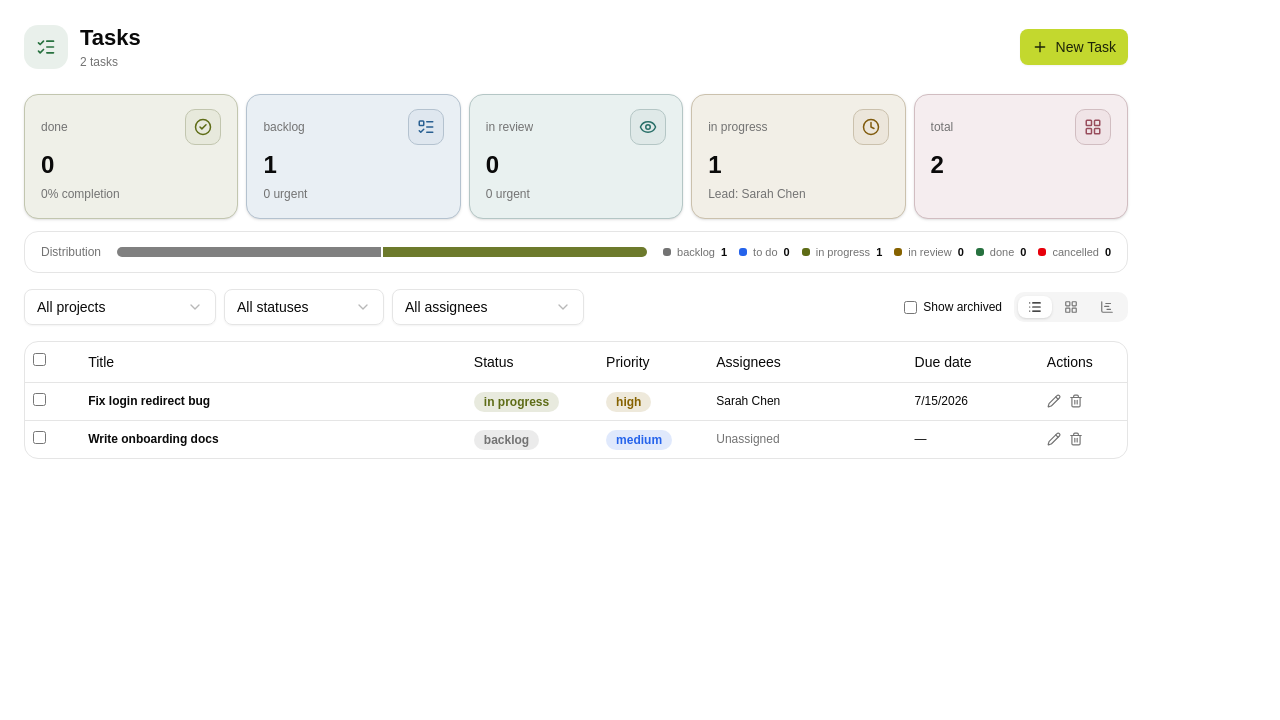
Test case: Tasks — list/board view toggle › switches back to list view
The image size is (1280, 720).
Check: the text "Fix login redirect bug" is shown, box [88,393,210,409]
Click the button named "board view".
click(1071, 307)  # box [1054,296,1088,318]
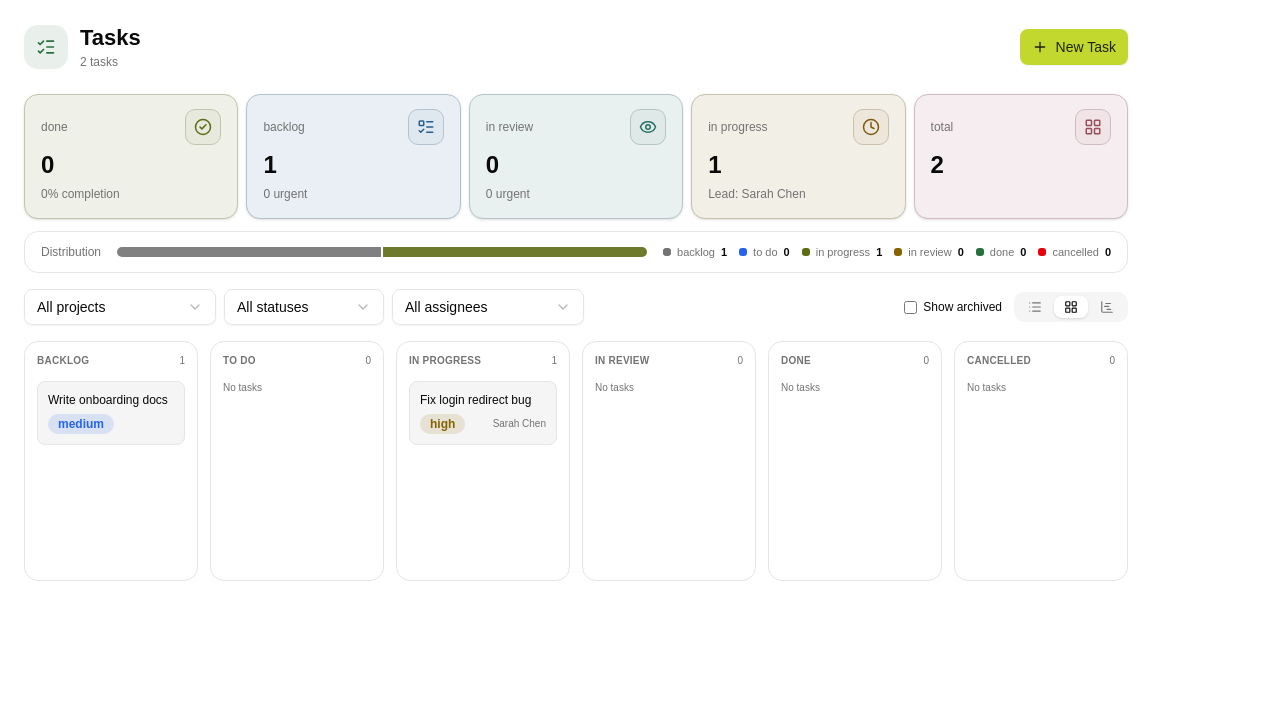
Click the button named "list view".
click(1035, 307)  # box [1018,296,1052,318]
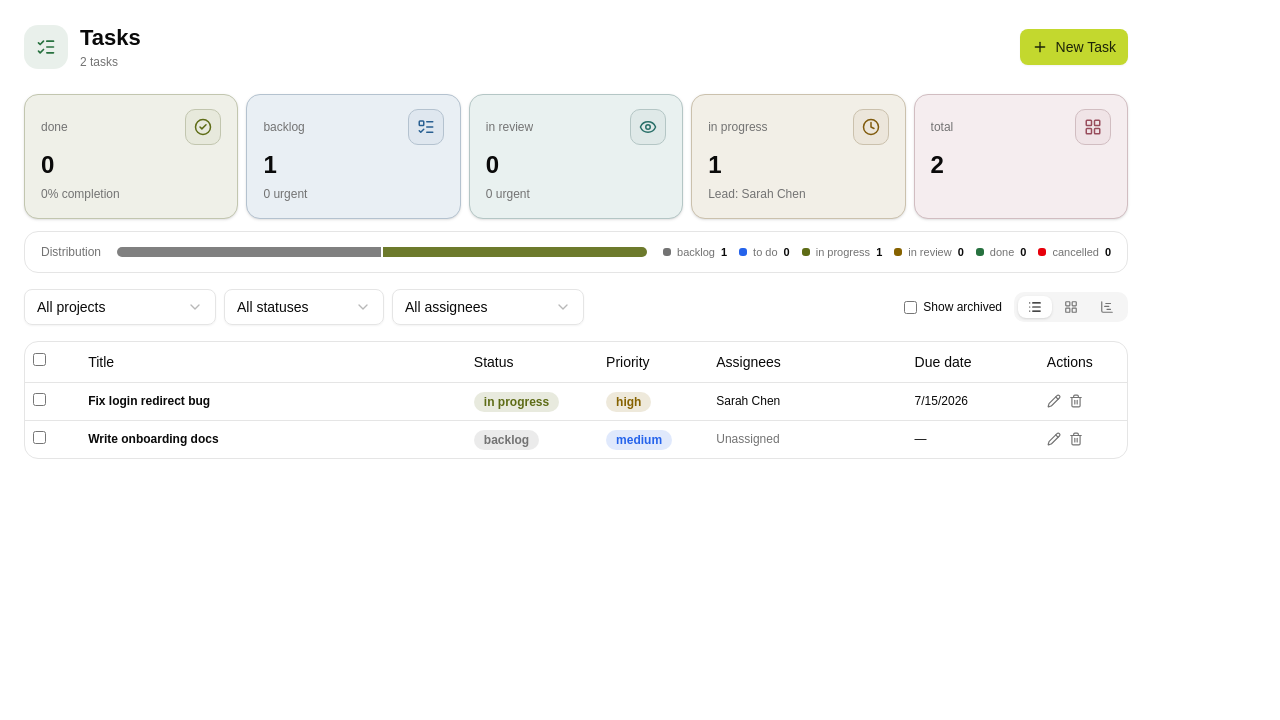
Check: the column heading "Title" is shown, box [80,342,466,382]
